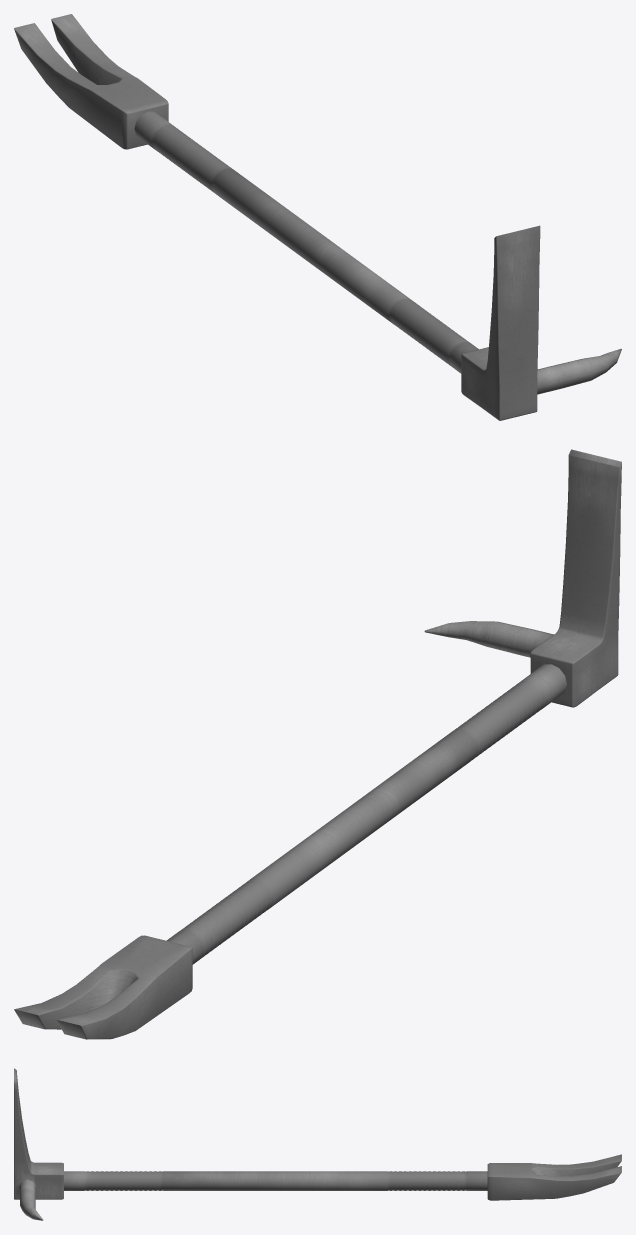
The model's file is halligan_bar_02.fbx.
3 renders of one model, top to bottom at view 1: azimuth 30°, elevation 25°; view 2: azimuth 150°, elevation 25°; view 3: azimuth 270°, elevation 25°, orthographic. The views are drawn at different scales.
Parts seen in each view (by area): view 1: halligan_bar_02; view 2: halligan_bar_02; view 3: halligan_bar_02.
Boxes of the visible parts, left/top/right/bottom form: halligan_bar_02: left=14, top=14, right=621, bottom=420; halligan_bar_02: left=14, top=449, right=621, bottom=1039; halligan_bar_02: left=14, top=1068, right=621, bottom=1220.
Bounding box in the file's own units: 14.37 × 16.45 × 76.17.
Materials: 1 (1 with a texture image).
